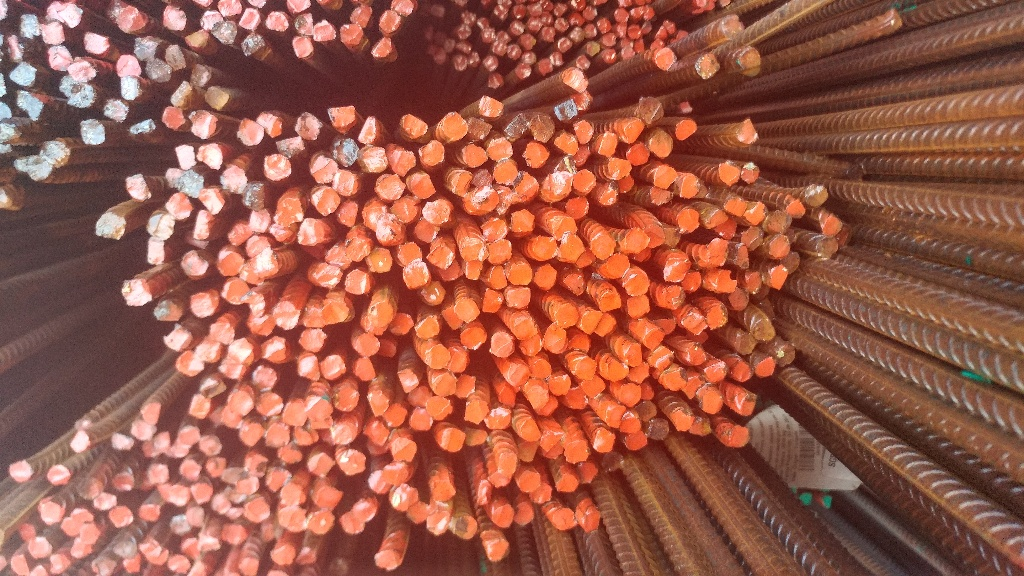dipstick: (12, 154, 53, 181), (555, 232, 585, 264), (187, 109, 218, 139), (375, 213, 405, 243), (95, 213, 126, 241), (121, 279, 153, 306), (236, 117, 265, 146), (16, 92, 45, 121), (544, 172, 574, 200), (274, 199, 305, 226), (37, 141, 69, 167), (278, 506, 307, 534), (272, 302, 300, 331), (512, 172, 539, 202), (331, 138, 358, 168), (327, 105, 357, 132), (297, 218, 325, 246), (164, 191, 192, 219), (337, 449, 366, 476), (295, 112, 322, 141), (262, 153, 291, 180), (219, 167, 248, 194), (176, 171, 205, 198), (403, 258, 429, 288), (376, 175, 406, 201), (116, 7, 146, 33), (66, 60, 98, 84), (256, 111, 283, 139), (249, 251, 277, 278), (228, 338, 256, 365), (391, 485, 420, 511), (313, 187, 339, 216), (240, 180, 264, 211), (695, 53, 722, 80), (488, 331, 515, 358), (418, 139, 445, 166), (389, 149, 416, 176), (389, 195, 416, 222), (365, 247, 392, 274), (319, 354, 346, 381), (321, 298, 348, 325), (311, 157, 338, 184), (196, 143, 223, 170), (251, 366, 278, 393), (125, 174, 152, 201), (315, 263, 343, 289), (147, 213, 175, 239), (197, 188, 225, 214), (529, 114, 554, 143), (359, 311, 388, 336), (503, 114, 529, 141), (522, 142, 549, 168), (362, 146, 388, 173), (266, 467, 293, 493), (176, 350, 203, 376), (46, 46, 73, 72), (561, 67, 589, 92), (443, 112, 468, 140), (425, 245, 453, 270), (308, 453, 336, 478), (738, 47, 762, 76), (640, 97, 664, 126), (439, 427, 466, 452), (422, 199, 449, 224), (363, 207, 388, 234), (368, 301, 393, 328), (363, 422, 390, 447), (242, 290, 267, 317), (262, 336, 287, 363), (217, 251, 244, 276), (307, 510, 335, 534), (298, 328, 326, 352), (255, 392, 283, 416), (543, 323, 566, 352), (624, 227, 650, 252), (504, 363, 530, 388), (383, 402, 408, 428), (391, 438, 417, 463), (344, 269, 369, 295), (345, 237, 371, 262), (300, 305, 326, 330), (80, 119, 105, 145), (663, 258, 690, 282), (472, 186, 499, 210), (426, 343, 450, 370), (398, 241, 422, 268), (401, 113, 428, 137), (353, 333, 380, 357), (324, 245, 351, 269), (334, 200, 358, 227), (244, 452, 268, 479), (222, 281, 249, 305), (485, 408, 513, 431), (154, 299, 182, 322), (145, 59, 173, 82), (67, 85, 95, 108), (707, 238, 729, 267), (276, 137, 305, 159), (247, 313, 276, 335), (8, 63, 37, 85), (648, 132, 673, 157), (453, 516, 478, 541), (415, 315, 440, 340), (411, 174, 436, 199), (265, 422, 290, 447), (239, 422, 264, 447), (228, 391, 253, 416), (509, 209, 535, 233), (534, 263, 558, 289), (463, 401, 489, 425), (486, 239, 512, 263), (454, 298, 480, 322), (409, 406, 433, 432), (340, 511, 366, 535), (332, 172, 358, 196), (219, 356, 245, 380), (182, 251, 208, 275), (460, 327, 487, 350), (277, 441, 304, 464), (243, 499, 270, 522), (195, 339, 222, 362), (494, 185, 514, 216), (480, 219, 508, 241), (103, 101, 131, 123), (164, 329, 193, 350), (683, 310, 707, 335), (552, 507, 577, 531), (533, 234, 557, 259), (453, 374, 477, 399), (415, 219, 440, 243), (204, 86, 229, 110), (161, 106, 186, 130), (596, 180, 619, 206), (591, 235, 614, 261), (477, 95, 503, 118), (467, 118, 493, 141), (367, 391, 390, 417), (200, 375, 226, 398), (211, 22, 237, 45), (116, 54, 142, 77), (623, 273, 650, 295), (426, 397, 453, 419), (316, 487, 343, 509), (305, 398, 332, 420), (280, 484, 307, 506), (56, 5, 83, 27), (82, 33, 110, 54), (485, 141, 514, 161), (358, 115, 378, 144), (818, 210, 842, 234), (721, 15, 745, 39), (572, 169, 596, 193), (555, 304, 579, 328), (421, 281, 445, 305), (368, 470, 392, 494), (769, 233, 792, 258), (526, 385, 549, 410), (427, 511, 450, 536), (433, 372, 456, 397), (334, 388, 359, 411), (133, 38, 158, 61), (553, 133, 579, 155), (480, 287, 502, 313), (388, 312, 414, 334), (221, 523, 247, 545), (170, 80, 192, 106), (164, 44, 186, 70), (8, 459, 34, 481), (766, 211, 793, 232), (298, 355, 319, 382), (292, 425, 319, 446), (26, 537, 53, 558), (726, 426, 750, 449), (735, 392, 758, 416), (705, 305, 728, 329), (626, 295, 650, 318), (582, 375, 606, 398), (463, 144, 487, 167), (352, 500, 376, 523), (331, 422, 355, 445), (282, 402, 305, 426), (162, 7, 186, 30), (140, 403, 164, 426), (77, 478, 101, 501), (664, 285, 686, 310), (623, 118, 645, 143), (553, 99, 578, 121), (594, 312, 616, 337), (581, 309, 603, 334), (552, 217, 577, 239), (564, 197, 589, 219), (446, 348, 468, 373), (240, 264, 265, 286), (228, 223, 253, 245), (241, 34, 266, 56), (120, 76, 142, 101), (41, 22, 66, 44), (643, 419, 669, 440), (507, 264, 533, 285), (246, 235, 272, 256), (191, 292, 212, 318), (19, 13, 40, 39), (452, 170, 471, 198), (699, 391, 722, 414), (816, 236, 839, 259), (805, 183, 828, 206), (654, 165, 677, 188), (674, 118, 697, 141), (492, 504, 515, 527), (487, 539, 510, 562), (728, 286, 750, 310), (643, 224, 665, 248), (744, 202, 768, 224), (625, 143, 649, 165), (575, 357, 597, 381), (514, 319, 538, 341), (512, 502, 534, 526), (397, 369, 419, 393), (248, 209, 270, 233), (211, 322, 235, 344), (293, 13, 315, 37), (736, 119, 757, 144), (564, 441, 589, 462), (533, 396, 558, 417), (431, 480, 456, 501), (408, 385, 433, 406), (189, 394, 210, 419), (340, 24, 365, 45), (108, 506, 133, 527), (92, 491, 118, 511), (769, 264, 788, 291), (374, 550, 401, 569), (193, 210, 210, 240), (665, 367, 687, 390), (643, 327, 665, 350), (678, 209, 700, 232), (718, 163, 740, 186), (570, 89, 593, 111), (593, 429, 615, 452), (519, 469, 541, 492), (565, 387, 588, 409), (486, 265, 508, 288), (190, 483, 213, 505), (174, 145, 196, 168), (313, 20, 336, 42), (38, 502, 61, 524), (686, 341, 707, 365), (743, 227, 764, 251), (620, 383, 641, 407), (723, 195, 747, 216), (678, 174, 699, 198), (606, 255, 630, 276), (506, 288, 530, 309), (355, 357, 376, 381), (147, 238, 165, 266), (573, 120, 593, 145), (270, 545, 295, 565), (265, 12, 290, 32), (475, 478, 494, 504), (131, 422, 158, 440), (715, 218, 737, 240), (549, 373, 571, 395), (563, 274, 585, 296), (519, 334, 541, 356), (575, 462, 598, 483), (539, 430, 562, 451), (494, 163, 517, 184), (460, 240, 483, 261), (438, 259, 461, 280), (1, 187, 22, 210), (147, 464, 170, 485), (168, 485, 189, 508), (179, 460, 202, 481), (112, 471, 135, 492), (520, 418, 540, 442), (497, 451, 517, 475), (200, 10, 224, 30), (703, 362, 728, 381), (129, 119, 155, 137), (574, 247, 596, 268), (441, 307, 462, 329), (210, 494, 232, 515), (205, 457, 227, 478), (190, 64, 211, 86), (293, 36, 314, 58), (68, 431, 90, 452), (139, 503, 161, 524), (78, 523, 100, 544), (752, 320, 775, 340), (717, 269, 737, 292), (626, 362, 649, 382), (606, 405, 626, 428), (70, 538, 93, 558), (683, 376, 702, 400), (597, 292, 621, 311), (600, 451, 624, 470), (237, 476, 261, 495), (623, 432, 648, 450), (110, 432, 135, 450), (217, 1, 243, 18), (671, 410, 692, 431), (607, 360, 628, 381), (655, 48, 676, 69), (517, 441, 538, 462), (407, 502, 428, 523), (779, 253, 801, 273), (529, 483, 551, 503), (375, 339, 397, 359), (200, 435, 222, 455), (221, 406, 241, 428), (238, 9, 260, 29), (350, 5, 372, 25), (705, 209, 728, 228), (599, 133, 618, 156), (464, 428, 487, 447), (383, 466, 406, 485), (106, 3, 129, 22), (685, 326, 709, 344), (608, 160, 632, 178), (540, 441, 564, 459), (185, 30, 209, 48), (7, 35, 25, 59), (47, 466, 71, 484), (60, 517, 84, 535), (48, 554, 72, 572), (91, 556, 116, 573), (755, 356, 775, 377), (775, 345, 796, 365), (682, 270, 702, 291), (636, 401, 657, 421), (1, 122, 22, 142), (168, 514, 189, 534), (689, 416, 711, 435), (556, 472, 578, 491), (269, 223, 291, 242), (139, 540, 161, 559), (583, 509, 601, 532), (237, 558, 260, 576), (221, 466, 244, 484), (167, 554, 190, 572), (328, 557, 351, 575), (531, 359, 551, 379), (141, 438, 161, 458), (184, 506, 204, 526), (179, 426, 200, 445), (122, 554, 143, 573), (741, 163, 759, 185), (488, 471, 510, 489), (625, 343, 642, 366), (650, 188, 673, 205), (366, 437, 389, 454), (197, 535, 220, 552), (114, 541, 137, 558), (148, 548, 171, 565), (734, 362, 754, 381), (737, 334, 756, 354), (572, 146, 591, 166), (568, 333, 589, 351), (497, 388, 518, 406), (178, 537, 200, 554), (743, 272, 761, 292), (655, 352, 675, 370), (663, 227, 681, 247), (472, 169, 492, 187), (466, 259, 484, 279), (619, 419, 640, 436), (154, 431, 171, 452), (554, 157, 576, 173), (735, 243, 749, 268), (653, 319, 676, 334), (11, 555, 29, 574), (886, 10, 903, 30), (60, 75, 76, 96), (295, 546, 316, 562), (46, 2, 64, 20), (455, 39, 474, 56), (165, 167, 181, 187), (167, 441, 187, 457), (785, 200, 806, 215), (617, 175, 634, 193), (451, 53, 468, 71), (538, 58, 554, 77), (372, 38, 386, 59), (519, 33, 536, 50), (71, 509, 93, 522), (287, 1, 312, 12), (568, 26, 585, 42), (487, 74, 504, 90), (482, 55, 499, 71), (491, 40, 507, 57), (481, 27, 497, 44), (17, 525, 35, 540), (493, 5, 509, 21), (456, 25, 472, 41), (640, 383, 654, 401), (211, 406, 223, 427), (516, 64, 532, 79), (506, 44, 521, 60), (541, 27, 556, 43), (554, 18, 570, 33), (567, 12, 583, 27), (511, 4, 527, 19), (461, 10, 476, 26), (432, 48, 447, 64), (380, 11, 390, 35), (429, 5, 446, 19), (157, 482, 171, 499), (627, 25, 642, 40), (597, 18, 612, 33), (526, 17, 541, 32), (465, 52, 480, 67), (614, 22, 628, 38), (557, 37, 571, 53), (581, 6, 597, 20), (1, 101, 14, 118), (602, 49, 617, 63), (586, 42, 601, 56), (602, 33, 617, 47), (615, 9, 629, 24), (549, 51, 563, 66), (521, 51, 536, 65), (509, 20, 524, 34), (538, 11, 553, 25), (433, 32, 448, 46), (552, 4, 568, 17), (583, 24, 597, 38), (423, 41, 437, 55), (476, 17, 491, 30), (495, 30, 511, 42), (31, 565, 48, 576), (663, 20, 676, 34), (527, 4, 542, 16), (441, 39, 456, 51), (423, 25, 435, 40), (619, 37, 635, 48), (655, 26, 667, 40), (634, 39, 645, 54), (680, 101, 693, 113), (643, 7, 655, 20), (630, 7, 643, 19), (640, 21, 652, 34), (621, 46, 635, 57), (650, 38, 664, 49), (538, 1, 553, 11), (676, 31, 687, 39)
